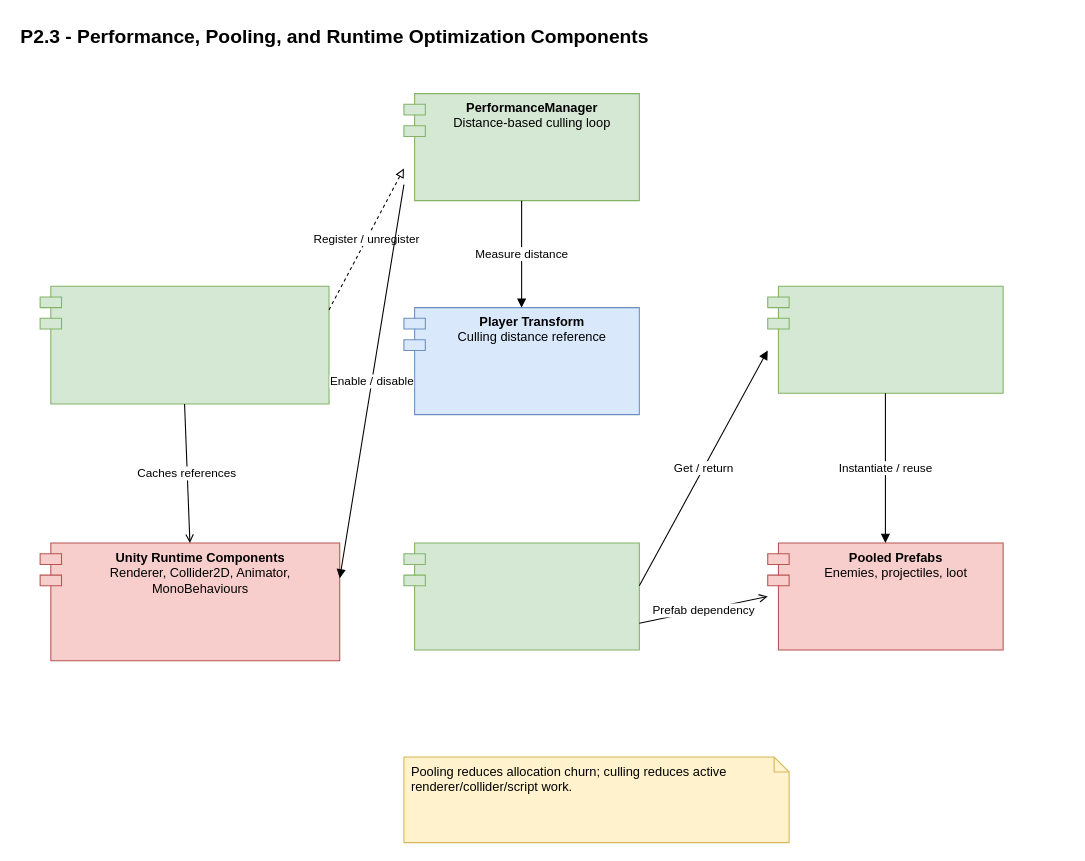
The diagram is 1085 pixels wide and 861 high, and some of its shapes have lost their labels. Each missing label, with the centre of its shape:
"AI / Spawning EnemyFactory, EnemySpawnDirector" belongs at (521,596).
"CullableEntity Registers renderers, colliders, animator, scripts" belongs at (184,344).
"ObjectPoolManager UnityEngine.Pool wrappers" belongs at (885,339).
